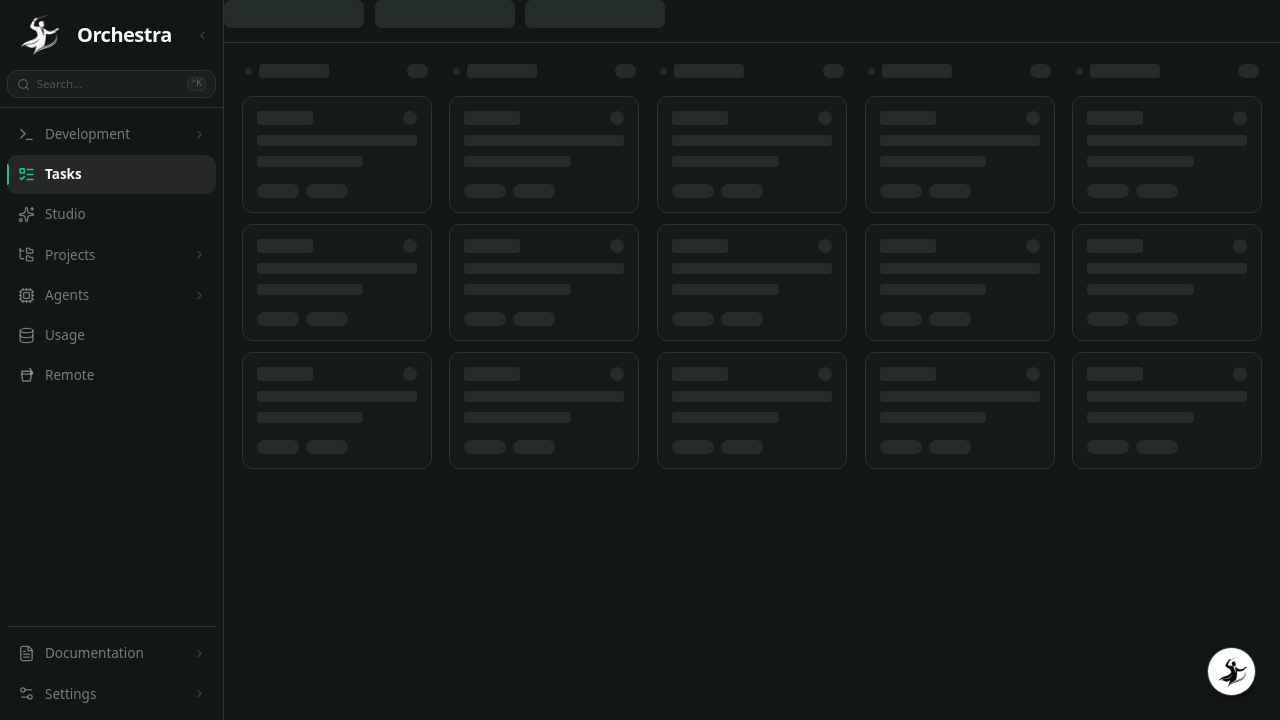
Test case: App smoke render › renders task board on launch
Click the button with test id "sidebar-nav-ISSUES" at (112, 174), box [7, 155, 216, 194]
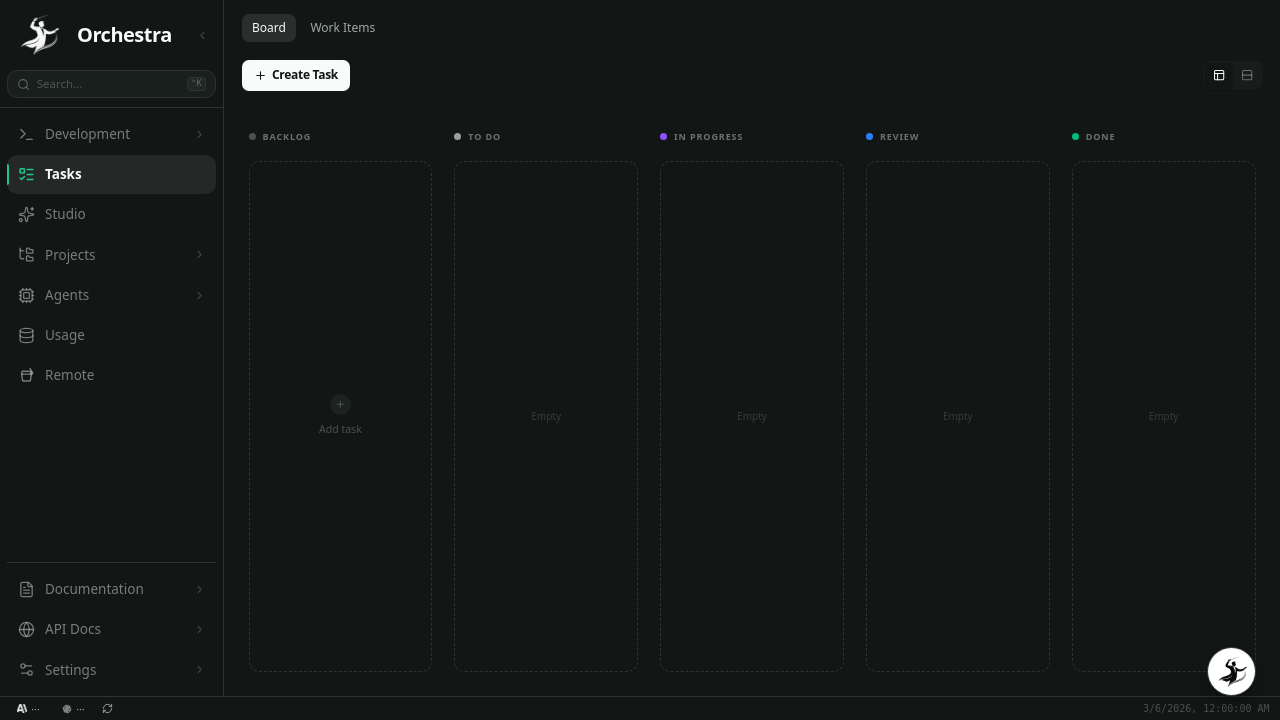
Check: the text "To Do" is shown, box [468, 130, 501, 142]
Check: the text "In Progress" is shown, box [674, 130, 743, 142]
Check: the text "Done" is shown, box [1086, 130, 1116, 142]
